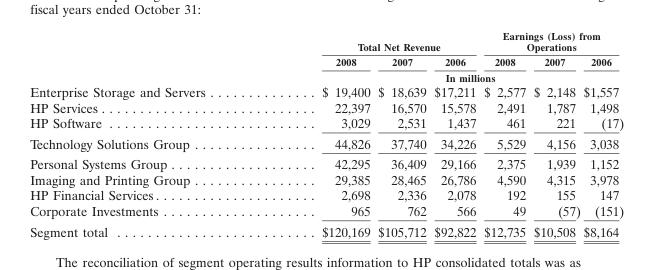table: (29, 29, 623, 238)
table column: (29, 29, 262, 238), (262, 29, 373, 238), (373, 29, 429, 238), (529, 29, 581, 238), (429, 29, 479, 238), (479, 29, 529, 238), (581, 29, 623, 238)
table column header: (29, 29, 623, 83)
table row: (29, 29, 623, 53), (29, 132, 623, 153), (29, 114, 623, 132), (29, 153, 623, 171), (29, 202, 623, 220), (29, 220, 623, 238), (29, 53, 623, 69), (29, 83, 623, 99), (29, 171, 623, 187), (29, 99, 623, 114), (29, 187, 623, 202), (29, 69, 623, 83)
table spanning cell: (262, 29, 479, 53), (262, 69, 623, 83), (479, 29, 623, 53)
